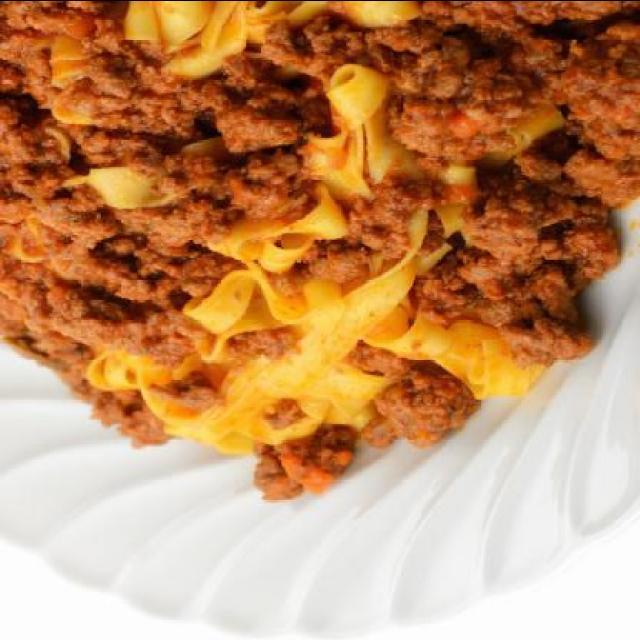Pasta al ragu: (16, 1, 618, 444)
